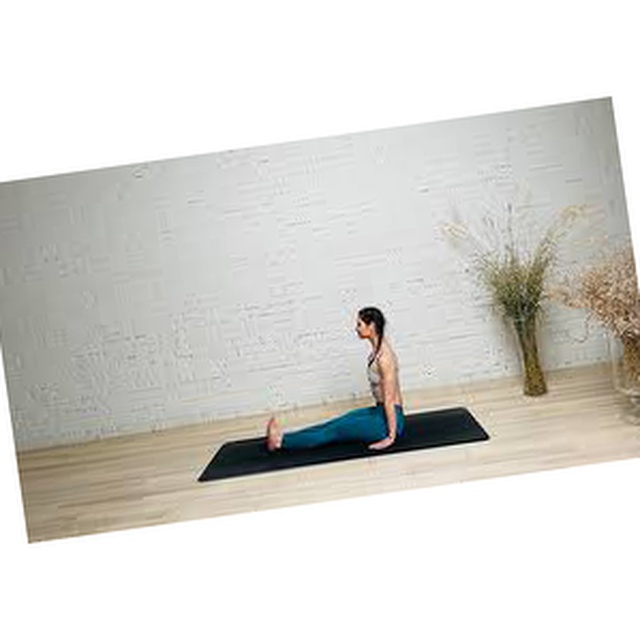Staff_Pose: (266, 307, 406, 453)
